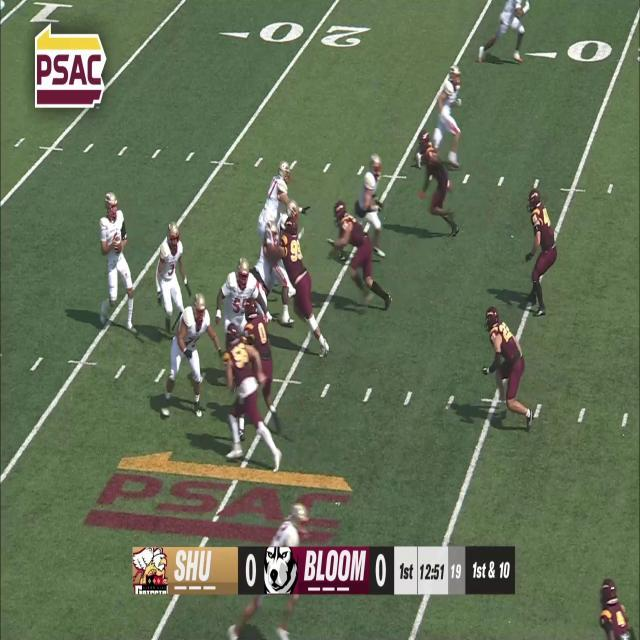football: (112, 234, 124, 254)
